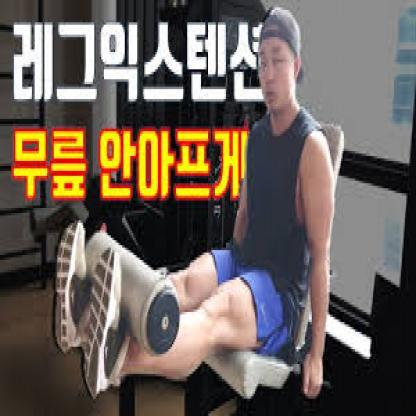leg extension: (42, 0, 357, 416)
